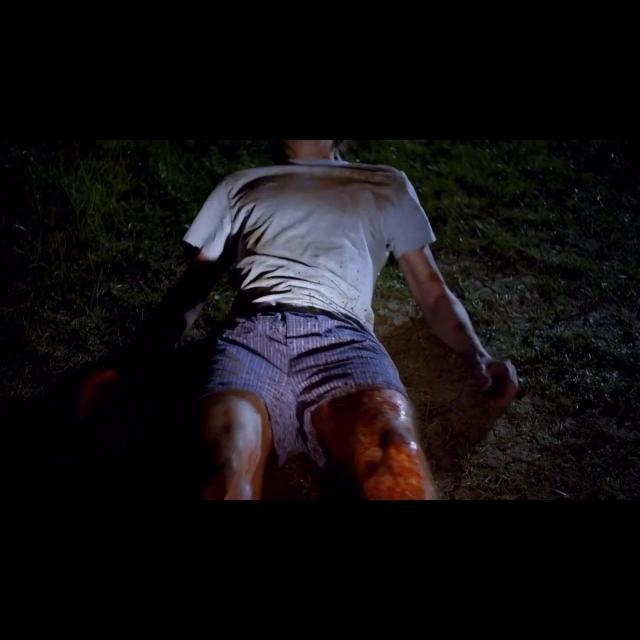blood: (311, 390, 426, 500), (198, 432, 262, 500)
